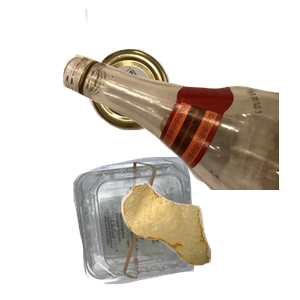glass: (60, 10, 300, 190)
metal: (86, 46, 248, 169)
plastic: (71, 154, 300, 300)
trash: (119, 181, 300, 300)
